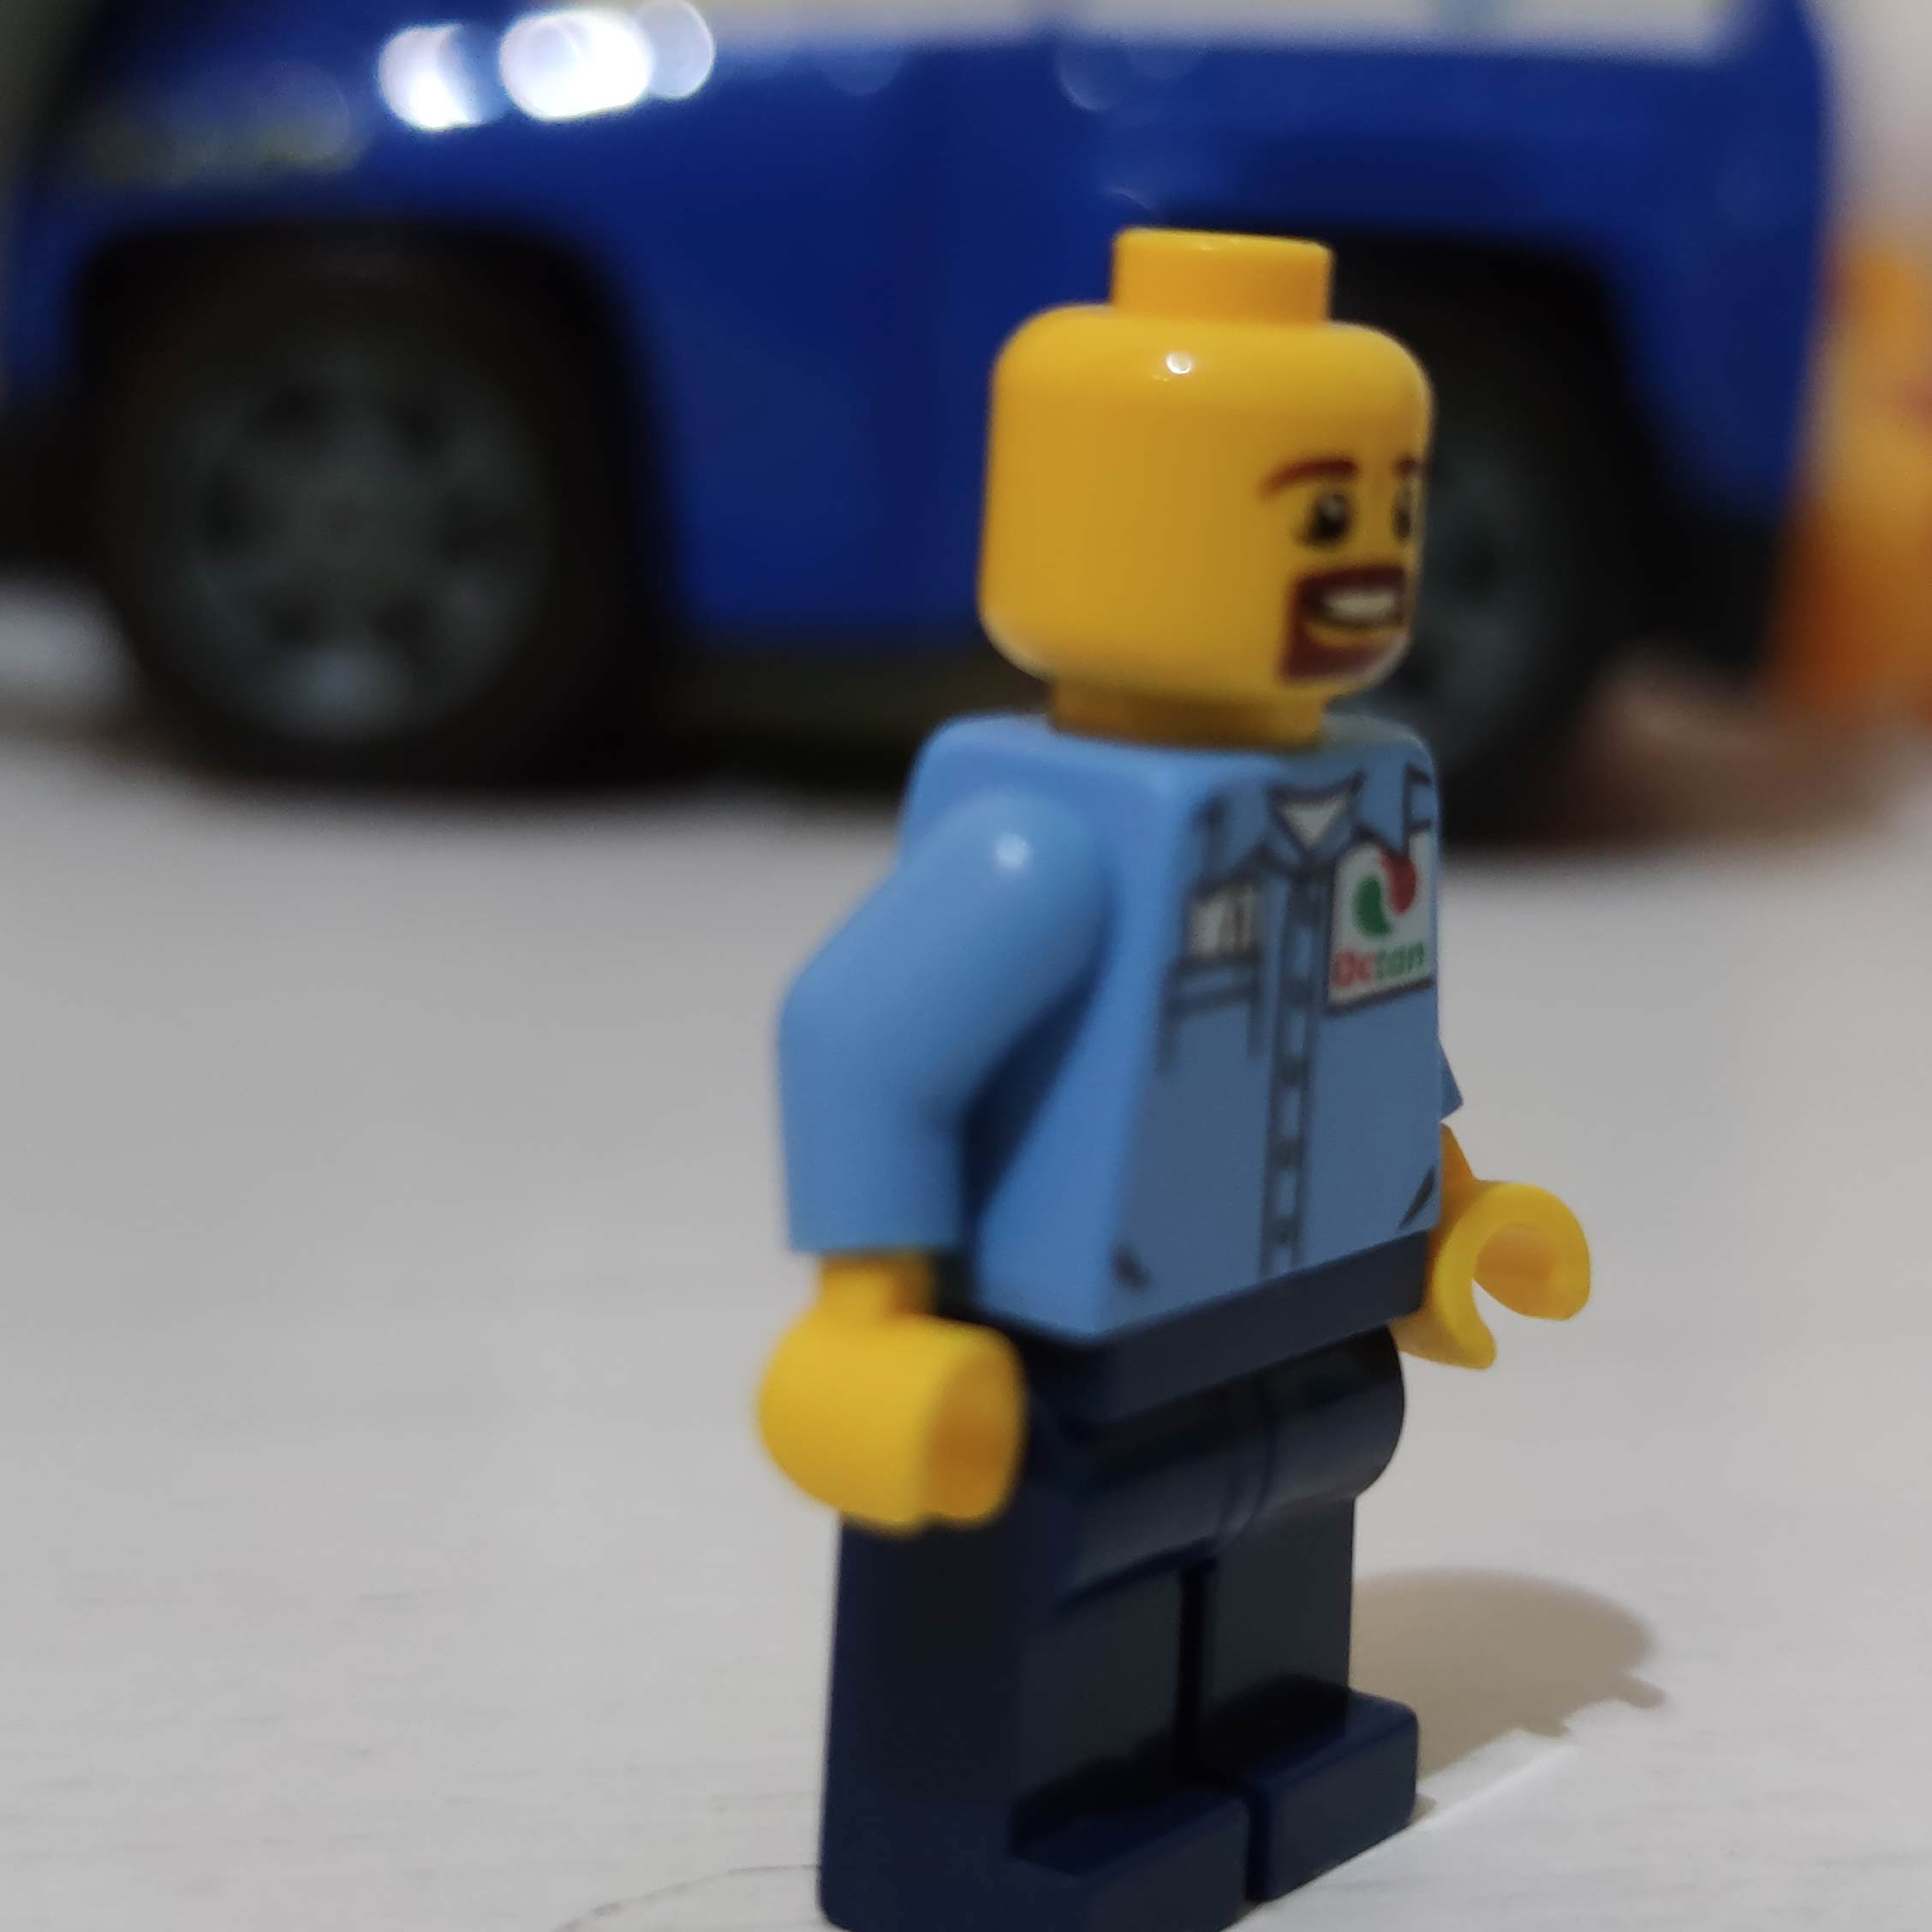lego: (757, 225, 1589, 1932)
